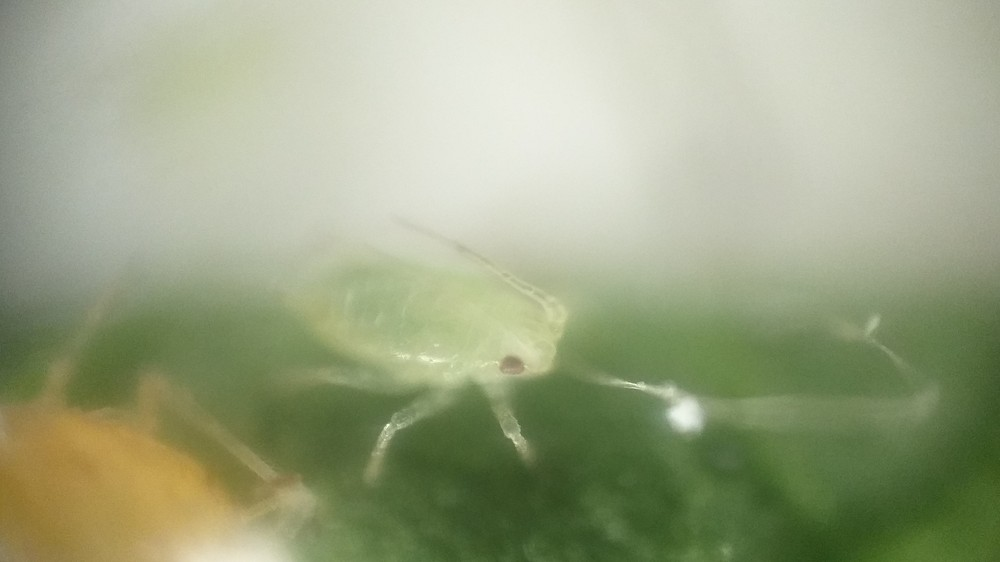Pulgon: (246, 211, 626, 479)
